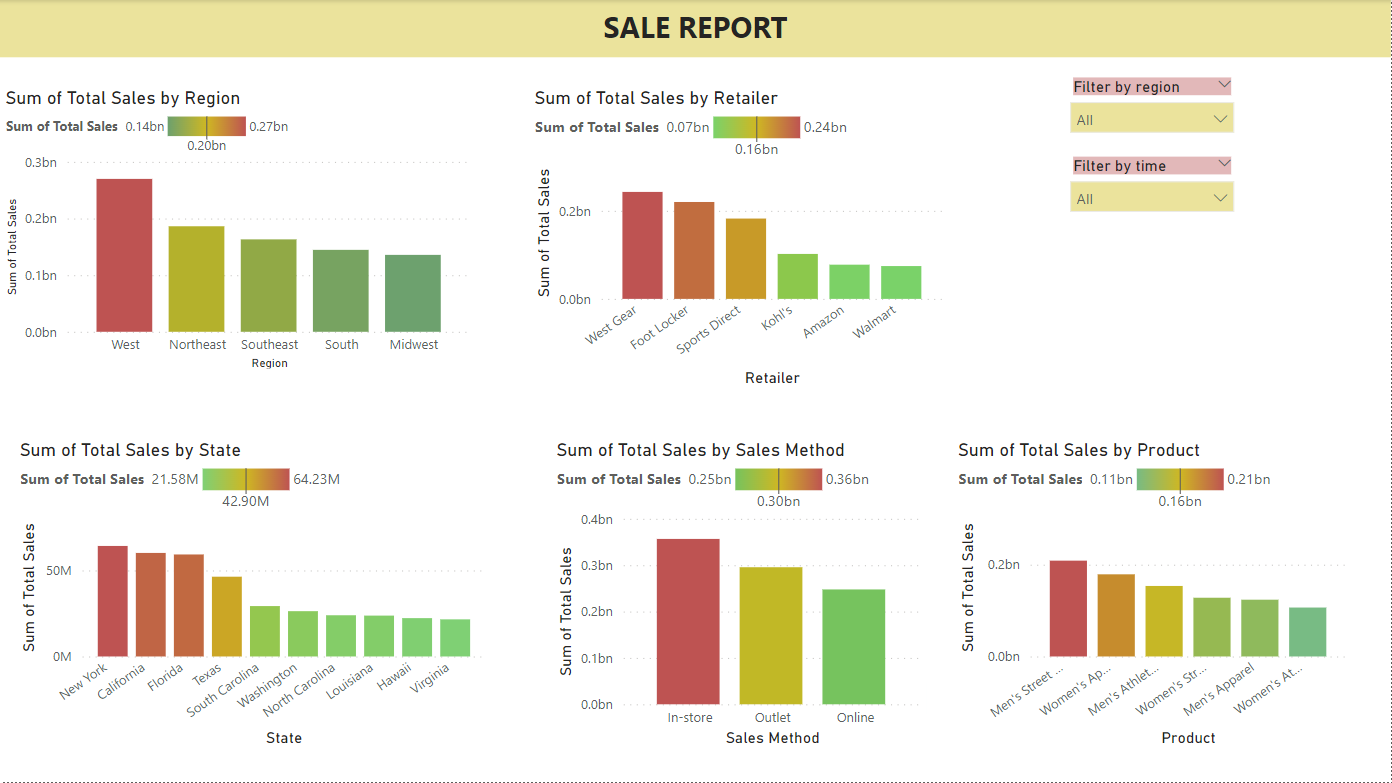

The page's visual inventory and layout, read from the dashboard file:
{"tool":"powerbi","page":{"name":"SALE DASHBOARD","canvas":[1280,720],"ordinal":0},"visuals":[{"type":"clusteredColumnChart","fields":{"Y":["Sum(Data Sales Adidas.Total Sales)"],"Category":["Data Sales Adidas.State"]},"box":[12.9,404.3,438.6,287.1],"z":1000},{"type":"clusteredColumnChart","fields":{"Category":["Data Sales Adidas.Region"],"Y":["Sum(Data Sales Adidas.Total Sales)"]},"box":[0,80,438.6,264.3],"z":2000},{"type":"clusteredColumnChart","fields":{"Y":["Sum(Data Sales Adidas.Total Sales)"],"Category":["Data Sales Adidas.Sales Method"]},"box":[507.1,404.3,345.7,287.1],"z":3000},{"type":"clusteredColumnChart","fields":{"Category":["Data Sales Adidas.Retailer"],"Y":["Sum(Data Sales Adidas.Total Sales)"]},"box":[487.1,80,385.7,280],"z":4000},{"type":"clusteredColumnChart","fields":{"Y":["Sum(Data Sales Adidas.Total Sales)"],"Category":["Data Sales Adidas.Product"]},"box":[877.1,404.3,367.1,287.1],"z":5000},{"type":"textbox","box":[0,0,1280,52.9],"z":6000},{"type":"slicer","fields":{"Values":["Data Sales Adidas.Region","Data Sales Adidas.City"]},"box":[974.4,65.6,171.1,65.6],"z":7000},{"type":"slicer","fields":{"Values":["Date table.Year","Date table.Month"]},"box":[974.4,138.9,171.1,66.7],"z":8000}]}

Visuals, with their boxes in screenshot pixels (x1, y1, x2, y2), scaled from the page's 1280x720 canvas onto the 1392x783 screenshot:
clusteredColumnChart - Sum(Data Sales Adidas.Total Sales) x Data Sales Adidas.State: bbox(14, 440, 491, 752)
clusteredColumnChart - Data Sales Adidas.Region x Sum(Data Sales Adidas.Total Sales): bbox(0, 87, 477, 374)
clusteredColumnChart - Sum(Data Sales Adidas.Total Sales) x Data Sales Adidas.Sales Method: bbox(551, 440, 927, 752)
clusteredColumnChart - Data Sales Adidas.Retailer x Sum(Data Sales Adidas.Total Sales): bbox(530, 87, 949, 391)
clusteredColumnChart - Sum(Data Sales Adidas.Total Sales) x Data Sales Adidas.Product: bbox(954, 440, 1353, 752)
textbox: bbox(0, 0, 1391, 58)
slicer - Data Sales Adidas.Region x Data Sales Adidas.City: bbox(1060, 71, 1246, 143)
slicer - Date table.Year x Date table.Month: bbox(1060, 151, 1246, 224)
